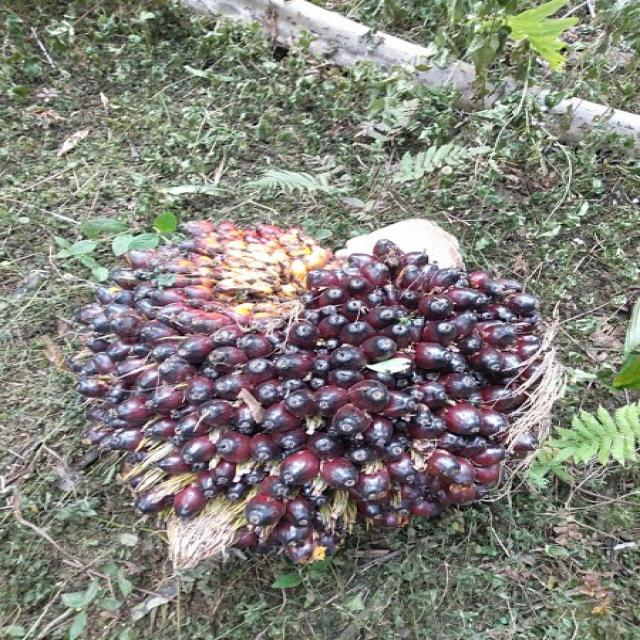fraksi 1: (23, 152, 584, 586)
